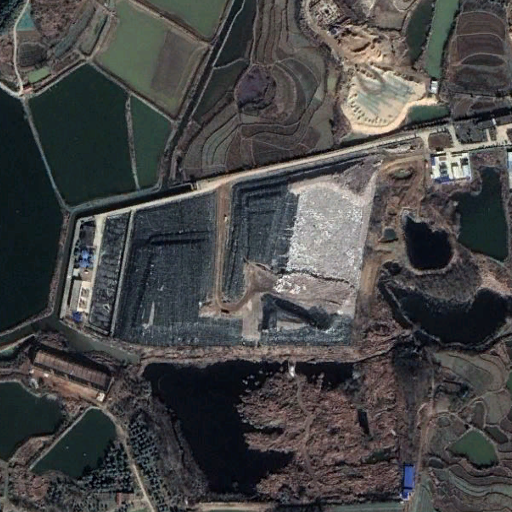lf: (114, 158, 383, 354)
